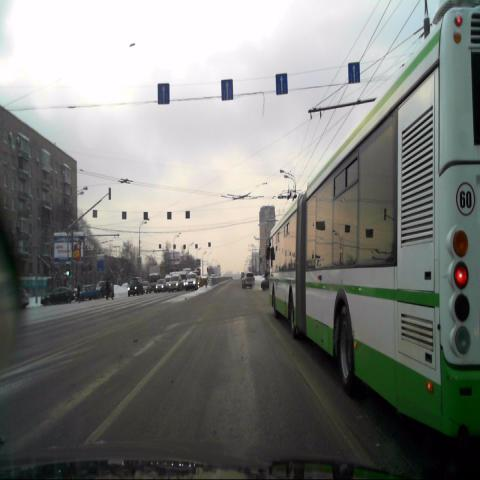5_15_2: (276, 73, 288, 94), (348, 62, 360, 83), (158, 82, 169, 104), (221, 80, 232, 100)
